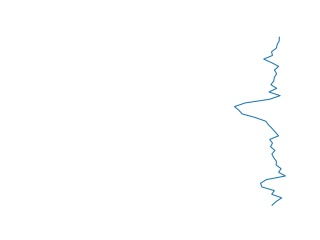interdistributaryEstuary: (230, 37, 288, 207)
